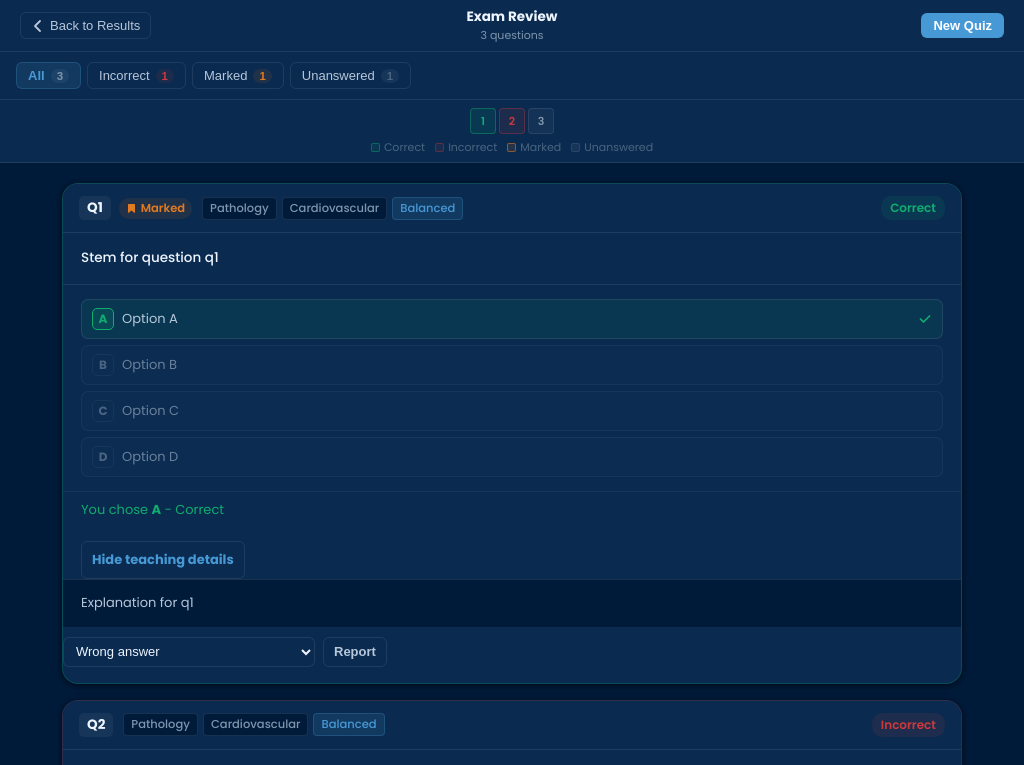
Test: ExamReview — Question Navigator › clicking a tile sets it as the current (focused) tile
Click the button named "Question 2, incorrect" at (512, 121), box [499, 108, 525, 134]
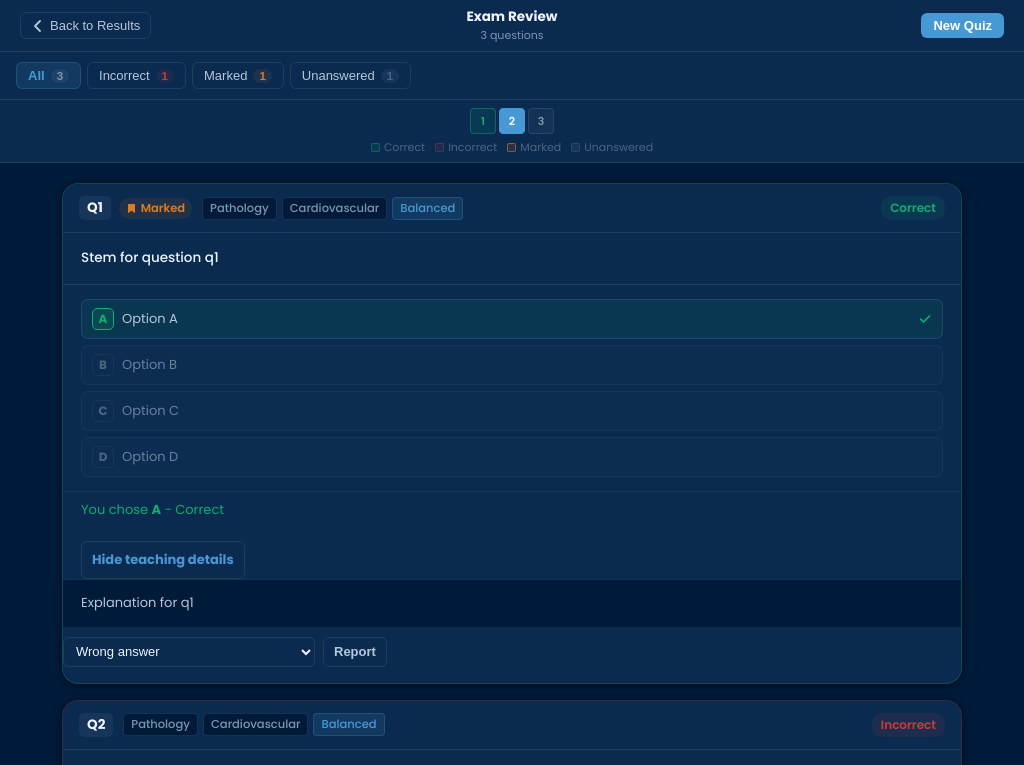
Expected: the button named "Question 2, current" is shown, [499, 108, 525, 134]
